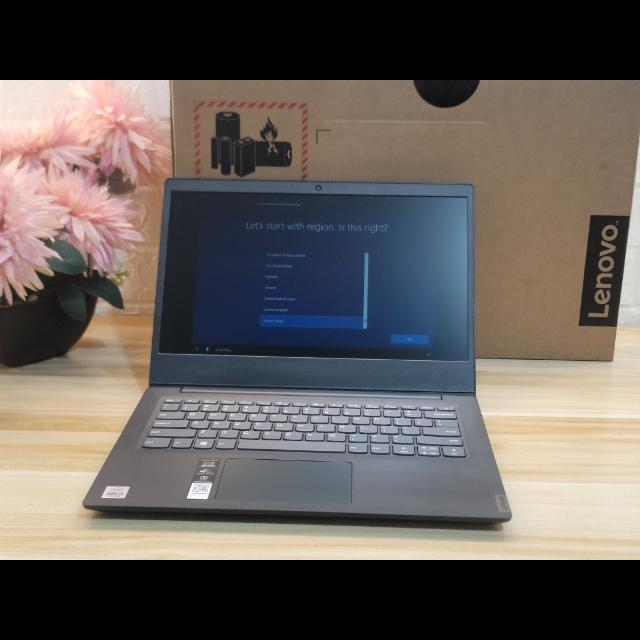Laptop: (158, 176, 482, 542)
